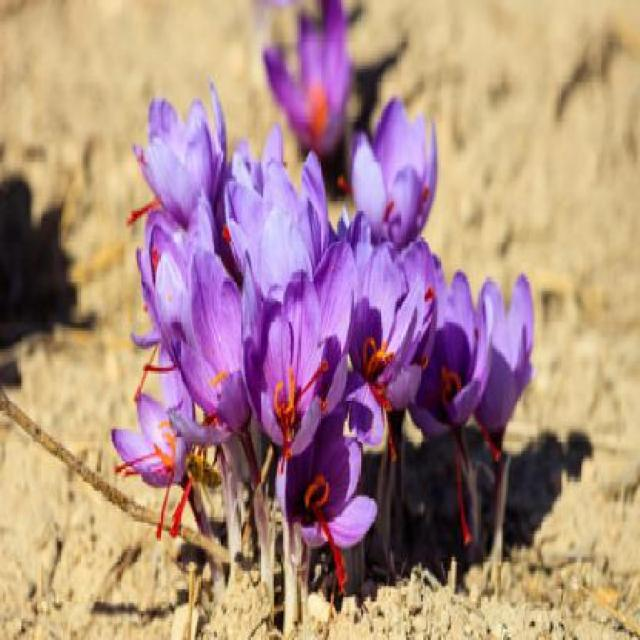Flower: (414, 237, 500, 465), (243, 275, 349, 451), (265, 434, 387, 586), (164, 261, 264, 439), (354, 100, 458, 262), (141, 88, 237, 252), (113, 366, 207, 511), (472, 278, 542, 467), (285, 25, 360, 146)
stigma: (316, 509, 356, 594), (453, 441, 476, 547), (292, 355, 332, 406), (167, 479, 196, 540), (123, 197, 163, 229)
